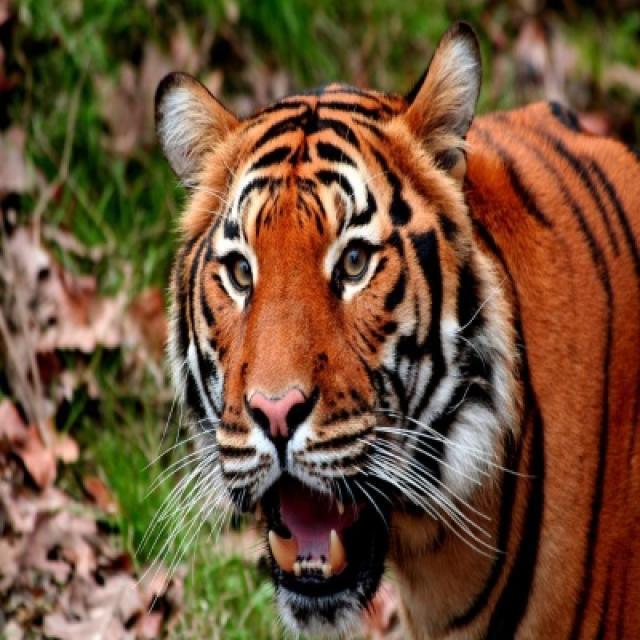Tiger: (146, 11, 638, 637)
